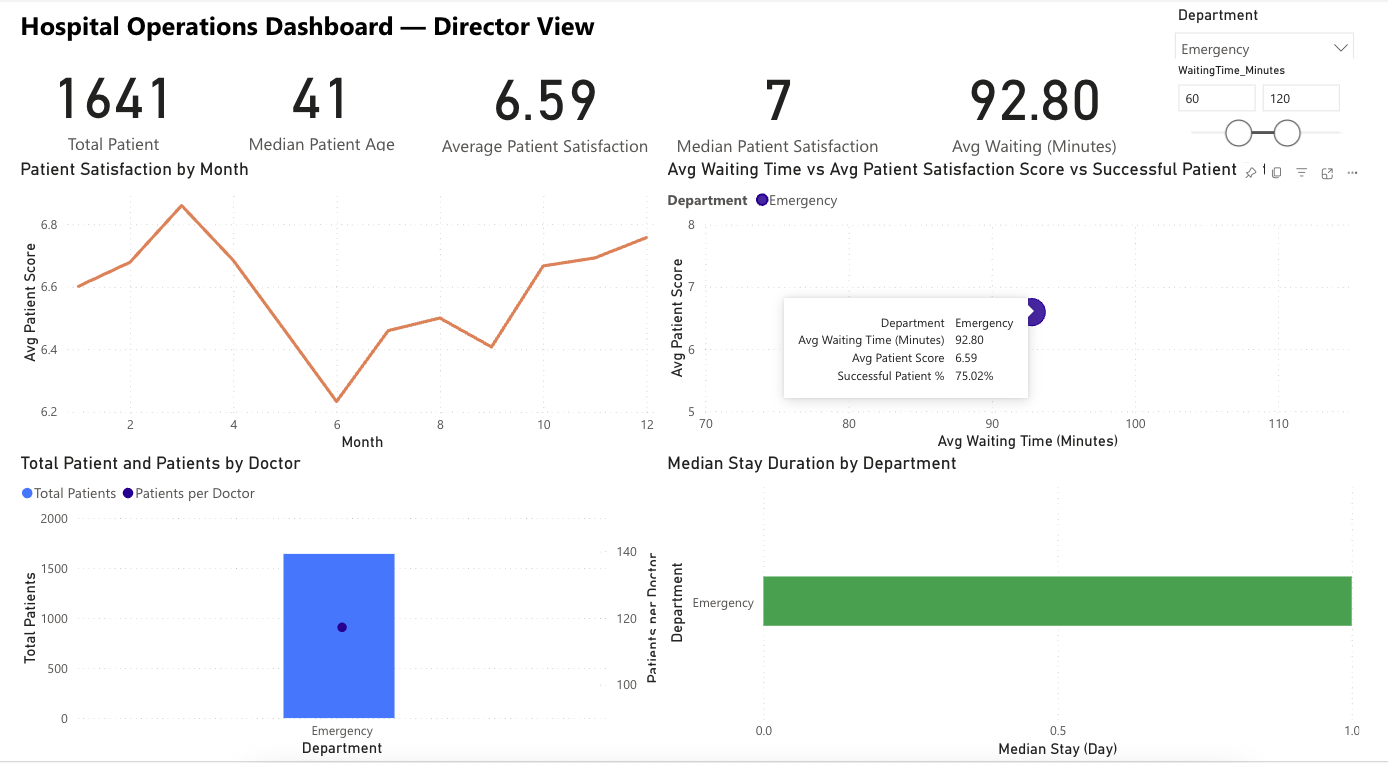

This screenshot's page, from the dashboard's own definition file:
{"tool":"powerbi","page":{"name":"Director View Report","canvas":[1280,720],"ordinal":0},"visuals":[{"type":"card","fields":{"Values":["Medibank_Director_Dataset_2024to2025.Total Patient"]},"box":[0,42.8,185.7,103.1],"z":0},{"type":"card","fields":{"Values":["Median(Medibank_Director_Dataset_2024to2025.PatientAge)"]},"box":[189.6,43.6,201.5,102.3],"z":1000},{"type":"card","fields":{"Values":["Avg(Medibank_Director_Dataset_2024to2025.PatientSatisfaction)"]},"box":[390.9,42.7,222.5,108.2],"z":2000},{"type":"card","fields":{"Values":["Avg(Medibank_Director_Dataset_2024to2025.WaitingTime_Minutes)"]},"box":[831.2,42.7,269.7,108.2],"z":3000},{"type":"card","fields":{"Values":["Median(Medibank_Director_Dataset_2024to2025.PatientSatisfaction)"]},"box":[613.3,42.7,217.9,108.2],"z":4000},{"type":"lineClusteredColumnComboChart","title":"Total Patient and Patients by Doctor","fields":{"Category":["Medibank_Director_Dataset_2024to2025.Department"],"Y":["Medibank_Director_Dataset_2024to2025.Total Patient"],"Y2":["Medibank_Director_Dataset_2024to2025.Patients per Doctor"]},"box":[0,429.2,613.3,291.2],"z":5000},{"type":"scatterChart","title":"Avg Waiting Time vs  Avg Patient Satisfaction Score vs  Successful Patient Rate","fields":{"Series":["Medibank_Director_Dataset_2024to2025.Department"],"Size":["Medibank_Director_Dataset_2024to2025.Successful Patient %"],"X":["Avg(Medibank_Director_Dataset_2024to2025.WaitingTime_Minutes)"],"Y":["Avg(Medibank_Director_Dataset_2024to2025.PatientSatisfaction)"]},"box":[613.3,150.7,666.4,278.5],"z":6000},{"type":"slicer","fields":{"Values":["Medibank_Director_Dataset_2024to2025.Department"]},"box":[1089.5,0,190.5,54.1],"z":7000},{"type":"slicer","fields":{"Values":["Medibank_Director_Dataset_2024to2025.WaitingTime_Minutes"]},"box":[1089.5,54.1,190.5,86.1],"z":8000},{"type":"lineChart","title":"Patient Satisfaction by Month","fields":{"Category":["Medibank_Director_Dataset_2024to2025.Month"],"Y":["Avg(Medibank_Director_Dataset_2024to2025.PatientSatisfaction)"]},"box":[0,150.7,613.3,278.5],"z":9000},{"type":"clusteredBarChart","title":"Median Stay Duration by Department","fields":{"Category":["Medibank_Director_Dataset_2024to2025.Department"],"Y":["Median(Medibank_Director_Dataset_2024to2025.LengthOfStay_Days)"]},"box":[613.3,429.2,666.4,291.2],"z":10000},{"type":"textbox","box":[0,0,593.5,43.6],"z":10001}]}

Visuals, with their boxes in screenshot pixels (x1, y1, x2, y2), scaled from the page's 1280x720 canvas onto the 1388x763 screenshot:
card - Medibank_Director_Dataset_2024to2025.Total Patient: BBox(0, 45, 201, 155)
card - Median(Medibank_Director_Dataset_2024to2025.PatientAge): BBox(206, 46, 424, 155)
card - Avg(Medibank_Director_Dataset_2024to2025.PatientSatisfaction): BBox(424, 45, 665, 160)
card - Avg(Medibank_Director_Dataset_2024to2025.WaitingTime_Minutes): BBox(901, 45, 1194, 160)
card - Median(Medibank_Director_Dataset_2024to2025.PatientSatisfaction): BBox(665, 45, 901, 160)
"Total Patient and Patients by Doctor" lineClusteredColumnComboChart: BBox(0, 455, 665, 762)
"Avg Waiting Time vs  Avg Patient Satisfaction Score vs  Successful Patient Rate" scatterChart: BBox(665, 160, 1387, 455)
slicer - Medibank_Director_Dataset_2024to2025.Department: BBox(1181, 0, 1387, 57)
slicer - Medibank_Director_Dataset_2024to2025.WaitingTime_Minutes: BBox(1181, 57, 1387, 149)
"Patient Satisfaction by Month" lineChart: BBox(0, 160, 665, 455)
"Median Stay Duration by Department" clusteredBarChart: BBox(665, 455, 1387, 762)
textbox: BBox(0, 0, 644, 46)
